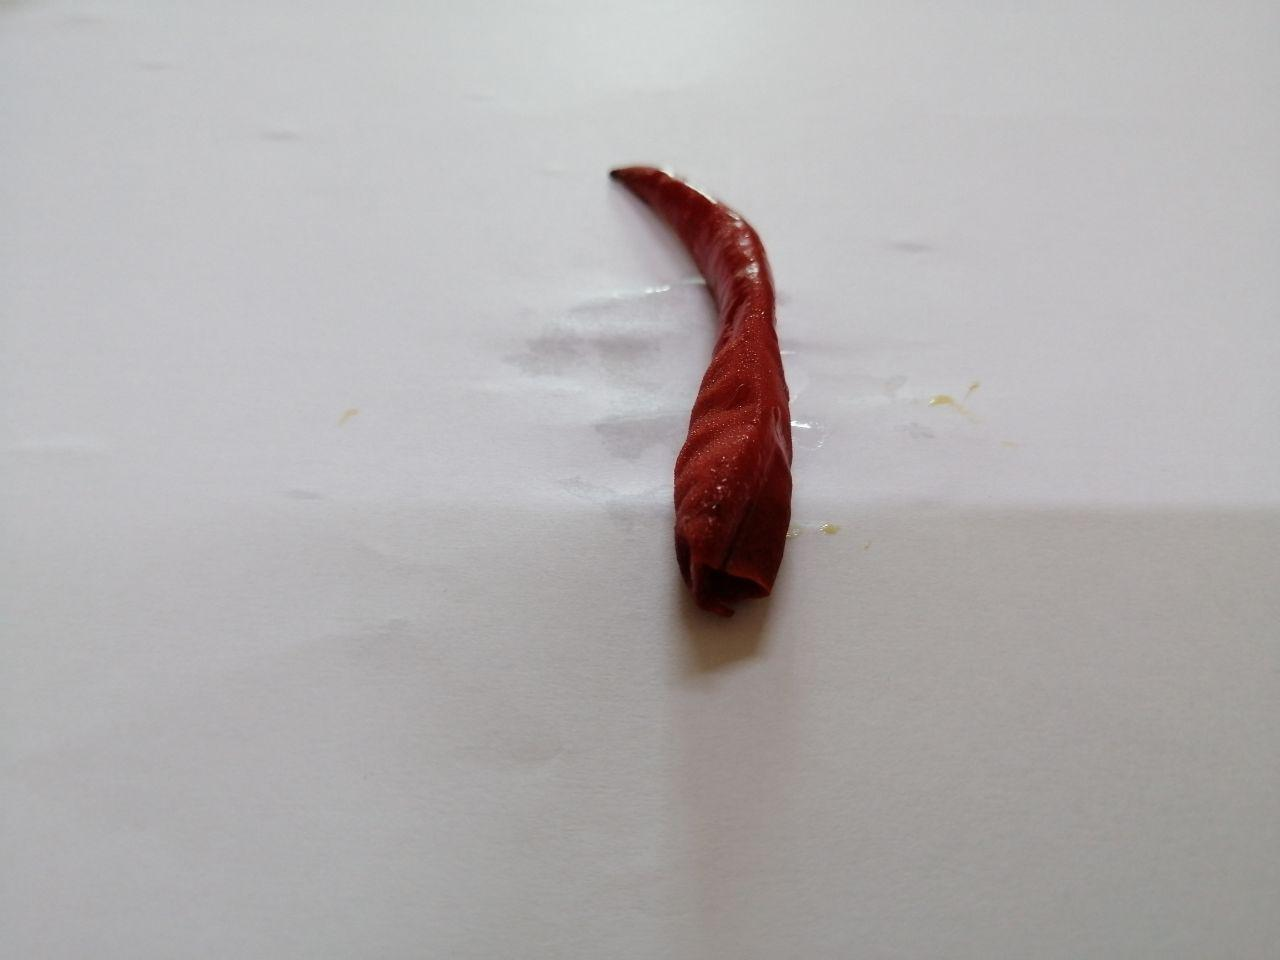lada merah: (571, 136, 827, 621)
